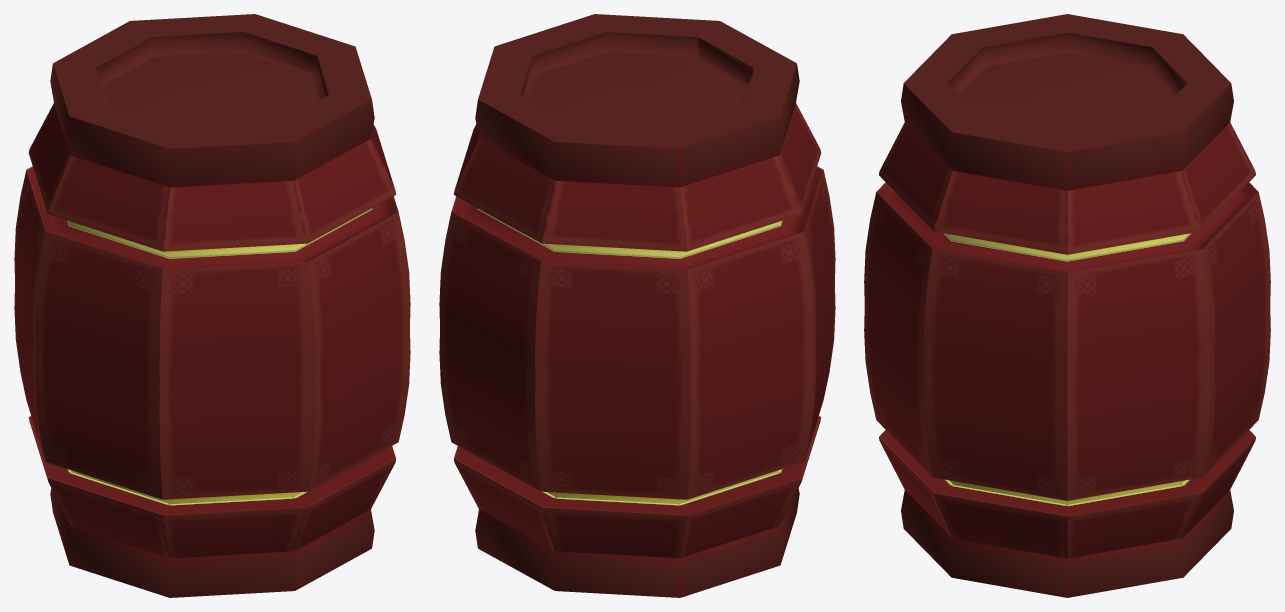
File: Barrel.fbx
3 views of the same model, side by side, from view 1: azimuth 30°, elevation 25°; view 2: azimuth 150°, elevation 25°; view 3: azimuth 270°, elevation 25° (orthographic).
Parts seen in each view (by area): view 1: BarrelBasic; view 2: BarrelBasic; view 3: BarrelBasic.
Part boxes in pixels (x1=…): BarrelBasic: x1=14, y1=14, x2=410, y2=597; BarrelBasic: x1=439, y1=14, x2=835, y2=597; BarrelBasic: x1=864, y1=14, x2=1270, y2=597.
Bounding box in the file's own units: 34.06 × 34.06 × 41.16.
1 material, 1 textured.
